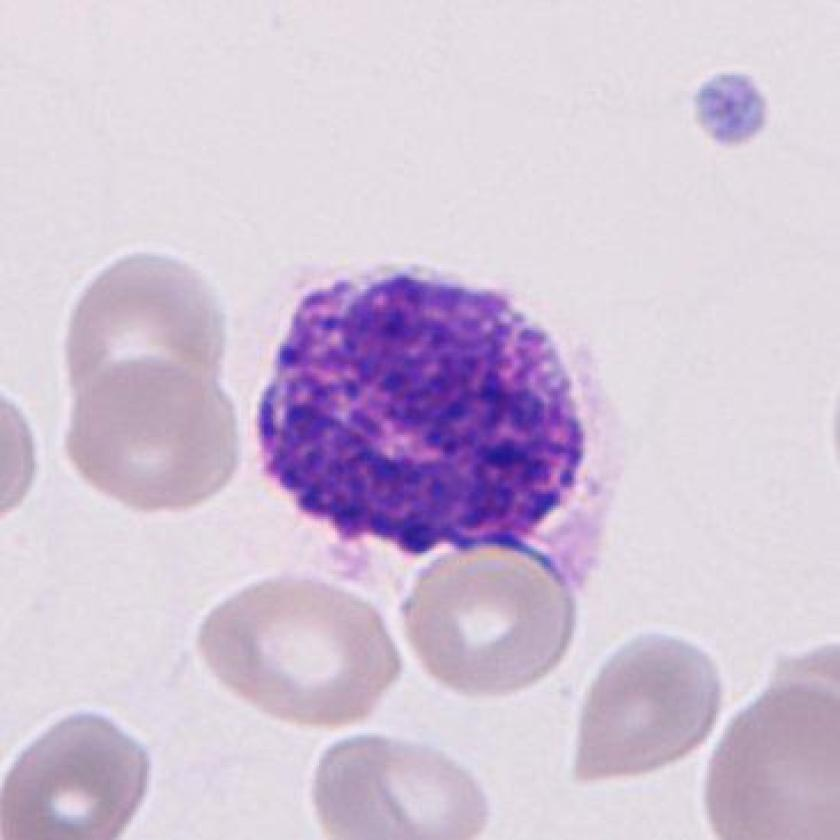basophil: (235, 263, 607, 570)
